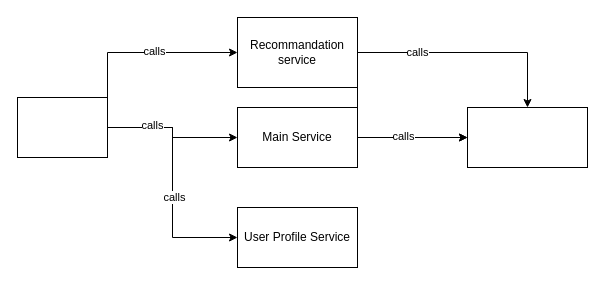
This 605x285 diagram has some shape labels left out. Here are the shapes that lost their labels. From the top down, the centre of each, then its label:
point 62,127: Front end
point 527,137: Data source(s)
